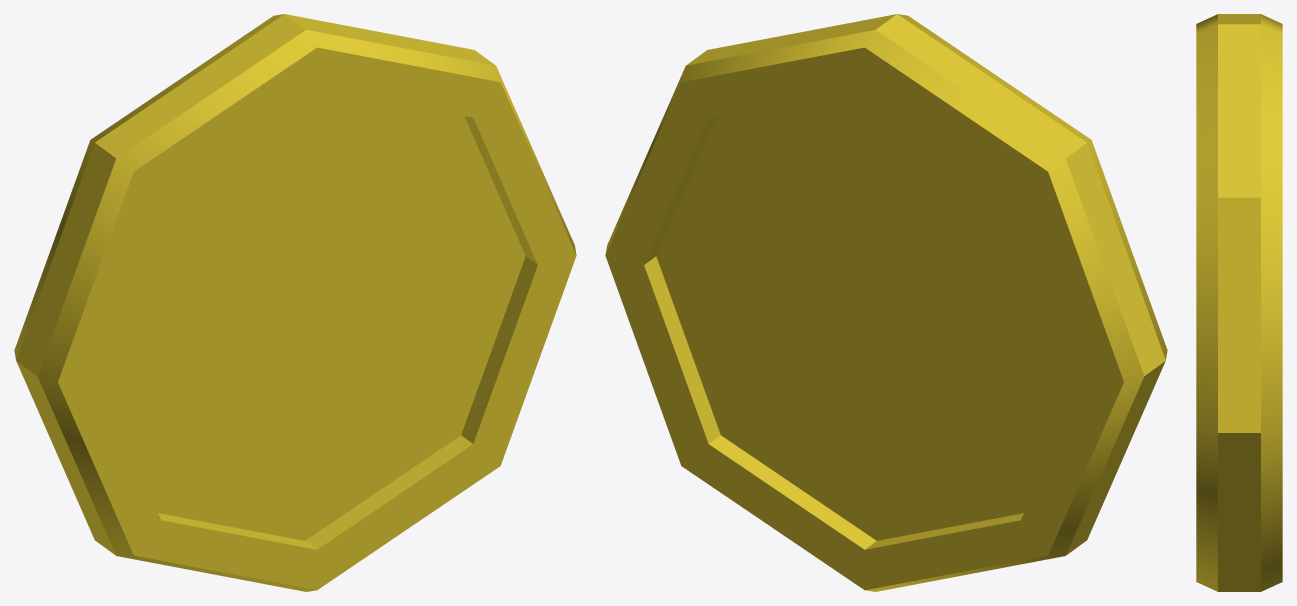
Rendered from coin-model.fbx.
3 views of the same model, side by side, from view 1: azimuth 30°, elevation 25°; view 2: azimuth 150°, elevation 25°; view 3: azimuth 270°, elevation 25° (orthographic).
Parts seen in each view (by area): view 1: CoinMesh; view 2: CoinMesh; view 3: CoinMesh.
Part boxes in pixels (x1=…): CoinMesh: x1=14, y1=14, x2=576, y2=591; CoinMesh: x1=605, y1=14, x2=1167, y2=591; CoinMesh: x1=1196, y1=14, x2=1282, y2=591.
Size of the model in its own units: 8.49 by 8.49 by 1.19.
